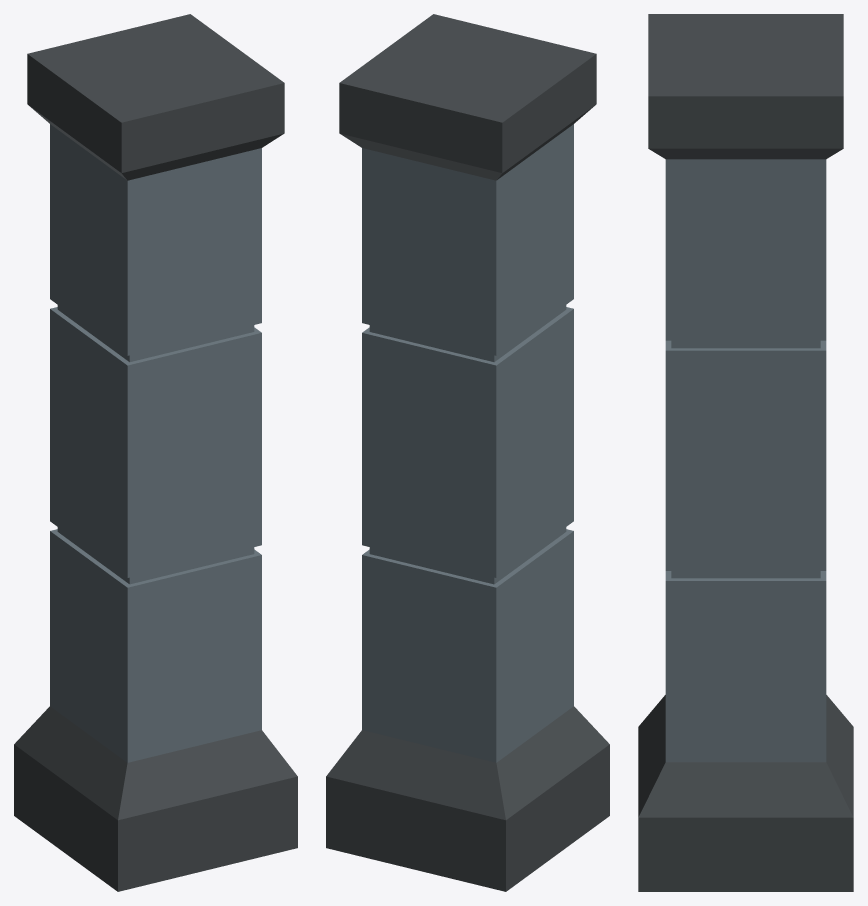
Rendered from pillar_1.glb.
The picture shows the model from 3 angles, left to right: view 1: azimuth 30°, elevation 25°; view 2: azimuth 150°, elevation 25°; view 3: azimuth 270°, elevation 25°; orthographic projection. The views are drawn at different scales.
Visible parts, largest first — view 1: pillar_1; view 2: pillar_1; view 3: pillar_1.
Part boxes in pixels (bbox=[...]): pillar_1: bbox=[14, 14, 297, 891]; pillar_1: bbox=[326, 14, 609, 891]; pillar_1: bbox=[638, 14, 853, 891].
Bounding box in the file's own units: 0.4067 × 1.65 × 0.4067.
1 material, 1 textured.
